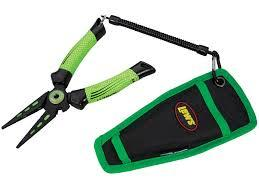pliers: (0, 15, 155, 148)
